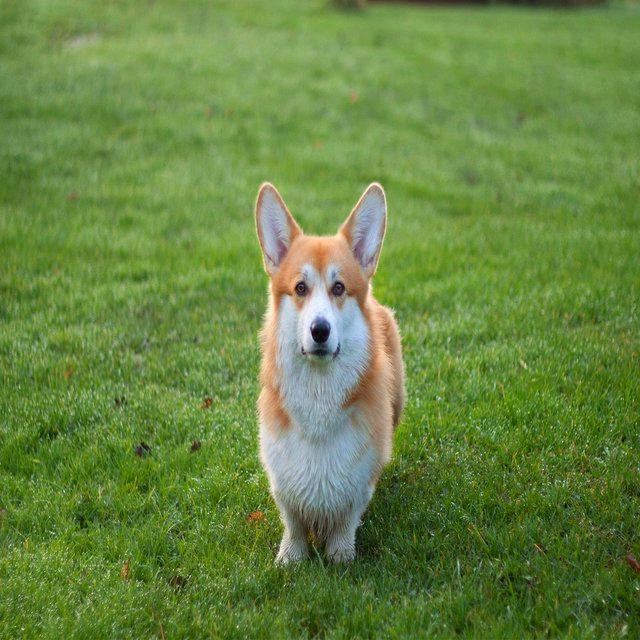corgi: (253, 179, 408, 568)
